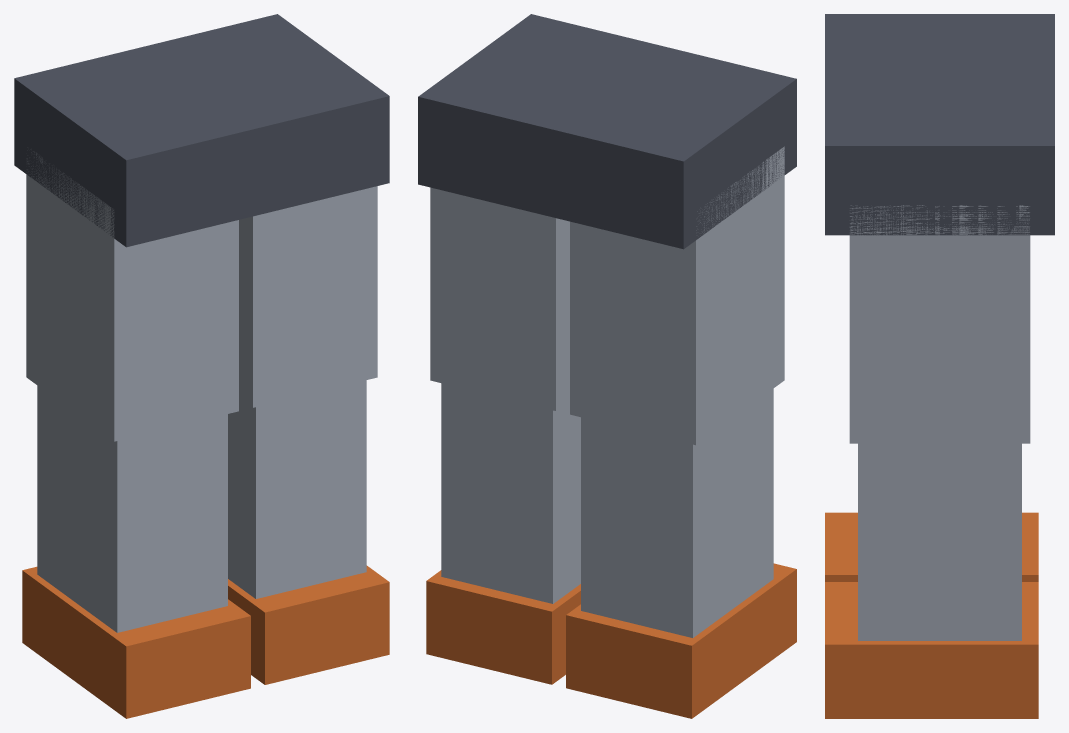
The model's file is SalvagedSteelGreaves.obj.
The picture shows the model from 3 angles, left to right: view 1: azimuth 30°, elevation 25°; view 2: azimuth 150°, elevation 25°; view 3: azimuth 270°, elevation 25°; orthographic projection. The views are drawn at different scales.
Parts seen in each view (by area): view 1: leg_l, leg_r, hip; view 2: leg_l, leg_r, hip; view 3: leg_r, hip, leg_l.
Boxes of the visible parts, box(x1,y1,x2,y2) form: leg_l: box(22, 147, 250, 718); leg_r: box(228, 186, 389, 684); hip: box(14, 14, 389, 247); leg_l: box(566, 146, 796, 718); leg_r: box(426, 187, 580, 684); hip: box(418, 14, 796, 249); leg_r: box(825, 205, 1038, 718); hip: box(825, 14, 1054, 235); leg_l: box(825, 512, 1038, 581).
Size of the model in its own units: 0.38 by 0.77 by 0.28.
